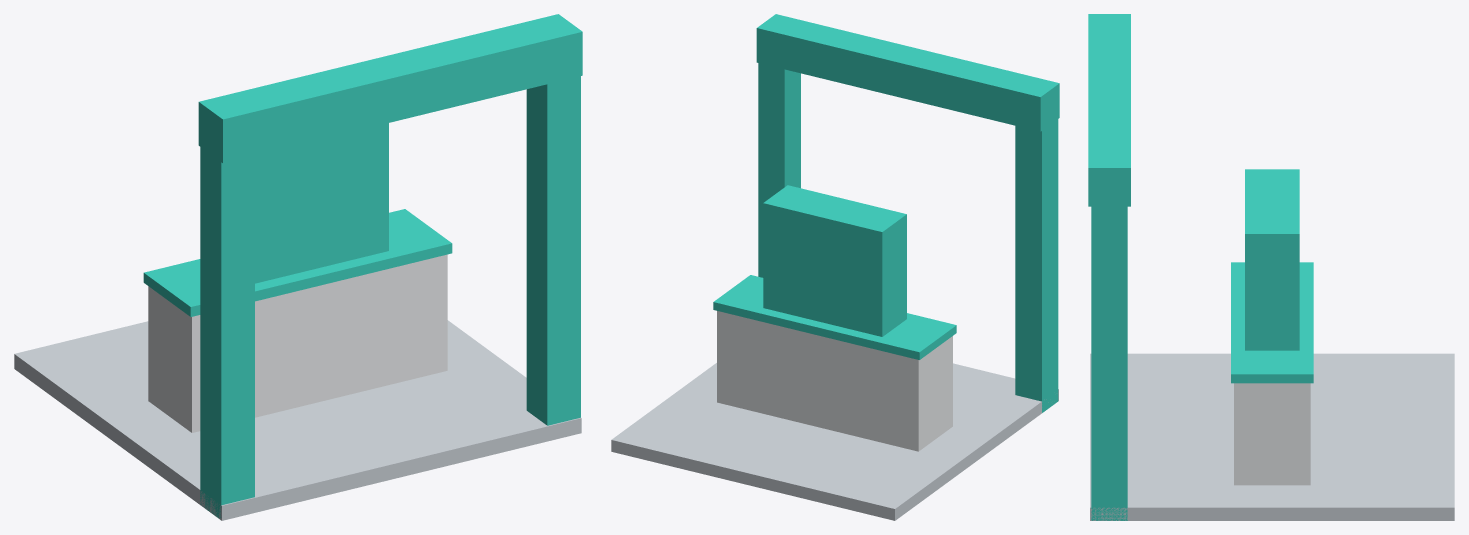
The picture shows the model from 3 angles, left to right: view 1: azimuth 30°, elevation 25°; view 2: azimuth 150°, elevation 25°; view 3: azimuth 270°, elevation 25°; orthographic projection. The views are drawn at different scales.
Visible parts, largest first — view 1: Exhibition Booth Concept; view 2: Exhibition Booth Concept; view 3: Exhibition Booth Concept.
Boxes of the visible parts, box(x1,y1,x2,y2) form: Exhibition Booth Concept: box(14, 14, 582, 520); Exhibition Booth Concept: box(611, 14, 1059, 520); Exhibition Booth Concept: box(1088, 14, 1454, 520).
Bounding box in the file's own units: 3 × 3.2 × 3.01.
